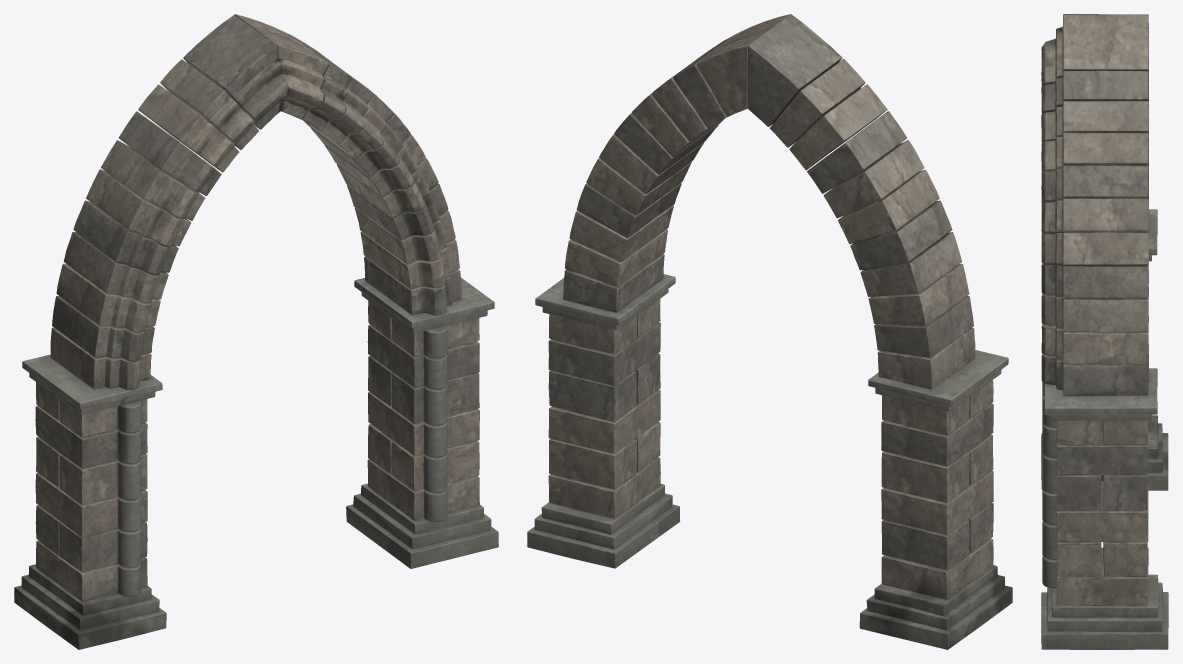
The model's file is portal-candidate.glb.
3 renders of one model, left to right at view 1: azimuth 30°, elevation 25°; view 2: azimuth 150°, elevation 25°; view 3: azimuth 270°, elevation 25°, orthographic. The views are drawn at different scales.
Parts seen in each view (by area): view 1: WornPier_Review; view 2: WornPier_Review; view 3: WornPier_Review.
Boxes of the visible parts, <box> form: WornPier_Review: <box>14,14,498,649</box>; WornPier_Review: <box>527,14,1012,649</box>; WornPier_Review: <box>1041,14,1168,649</box>.
Size of the model in its own units: 4.84 by 5.99 by 1.29.
1 material, 1 textured.
